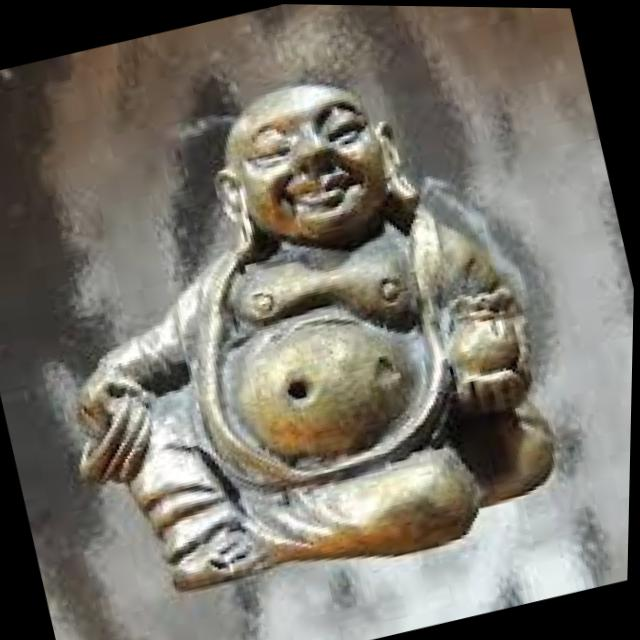Smiling Buddha: (122, 53, 492, 488)
